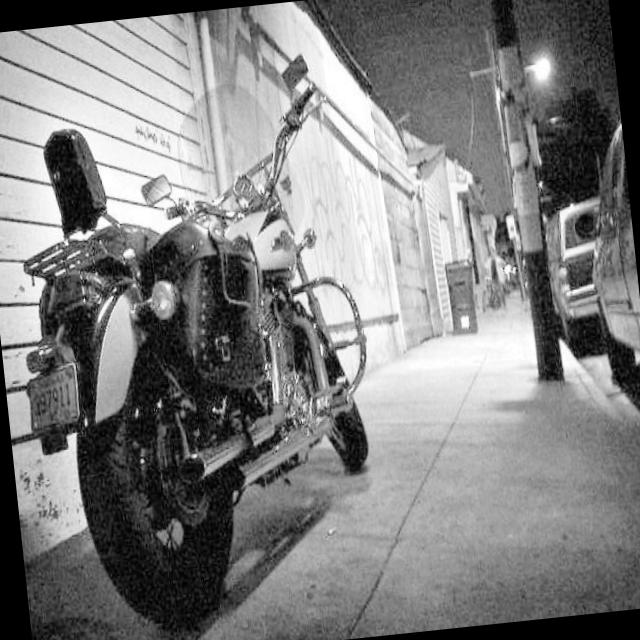Car: (506, 138, 632, 396), (589, 105, 640, 445)
Motorcycle: (0, 87, 405, 640)
